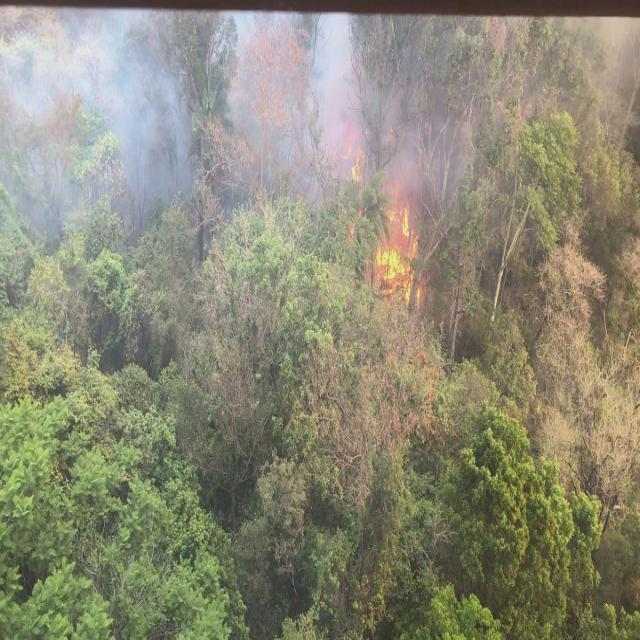Fire: (381, 184, 418, 298), (346, 121, 364, 181)
Smoke: (1, 8, 188, 229), (222, 12, 357, 145)
